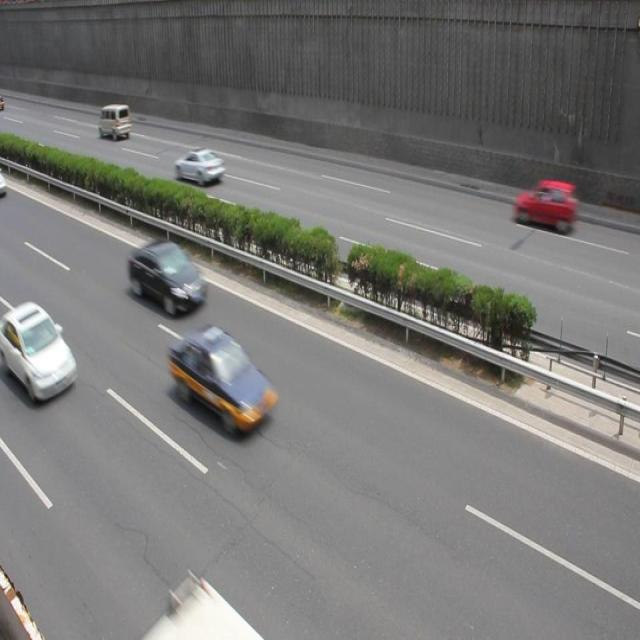car: (169, 323, 280, 438), (1, 299, 78, 403), (128, 238, 208, 318), (511, 180, 576, 234), (174, 147, 225, 186)
truck: (98, 104, 131, 141)
